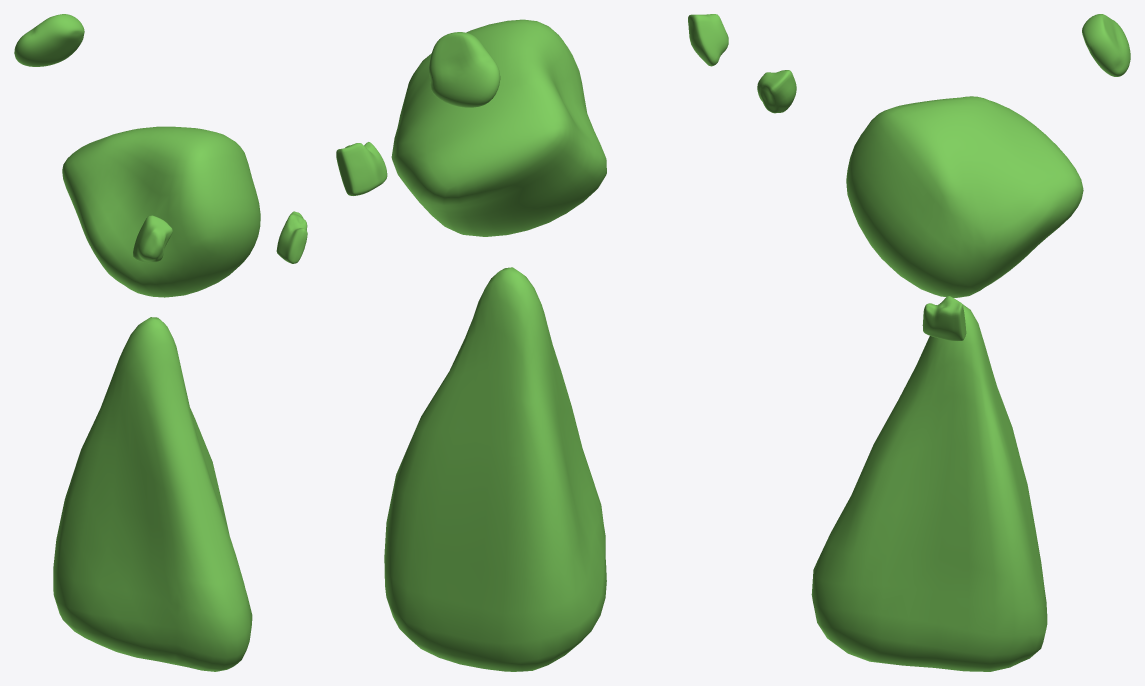
File: mini_arbre.fbx
3 renders of one model, left to right at view 1: azimuth 30°, elevation 25°; view 2: azimuth 150°, elevation 25°; view 3: azimuth 270°, elevation 25°, orthographic. The views are drawn at different scales.
Parts seen in each view (by area): view 1: polySurface39; view 2: polySurface39; view 3: polySurface39.
Boxes of the visible parts, <box> form: polySurface39: <box>14,14,307,671</box>; polySurface39: <box>336,14,728,671</box>; polySurface39: <box>757,14,1130,671</box>.
Size of the model in its own units: 1.36 by 3.05 by 1.66.
